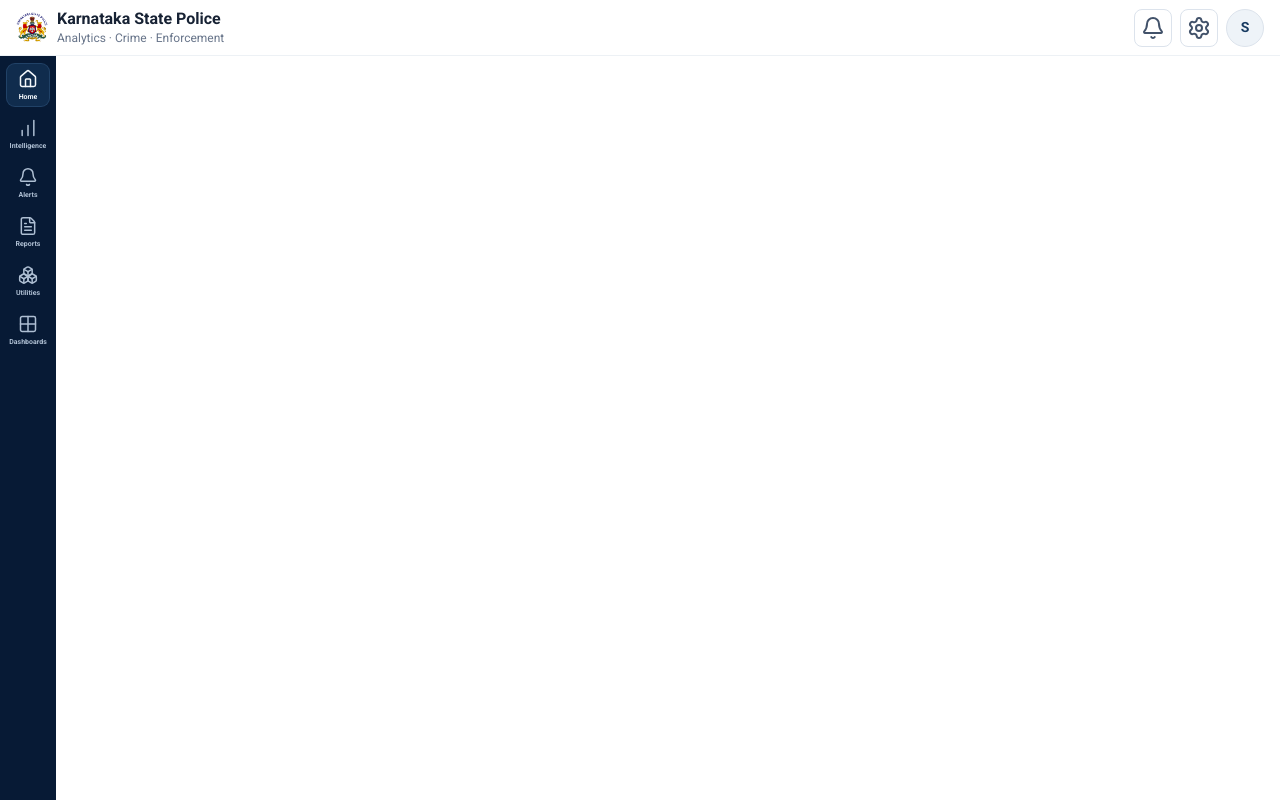
Test: keeps persona and settings menus mutually exclusive
The image size is (1280, 800).
Click the button named "Open account menu" at (1245, 28), box 1226,8 -> 1264,46
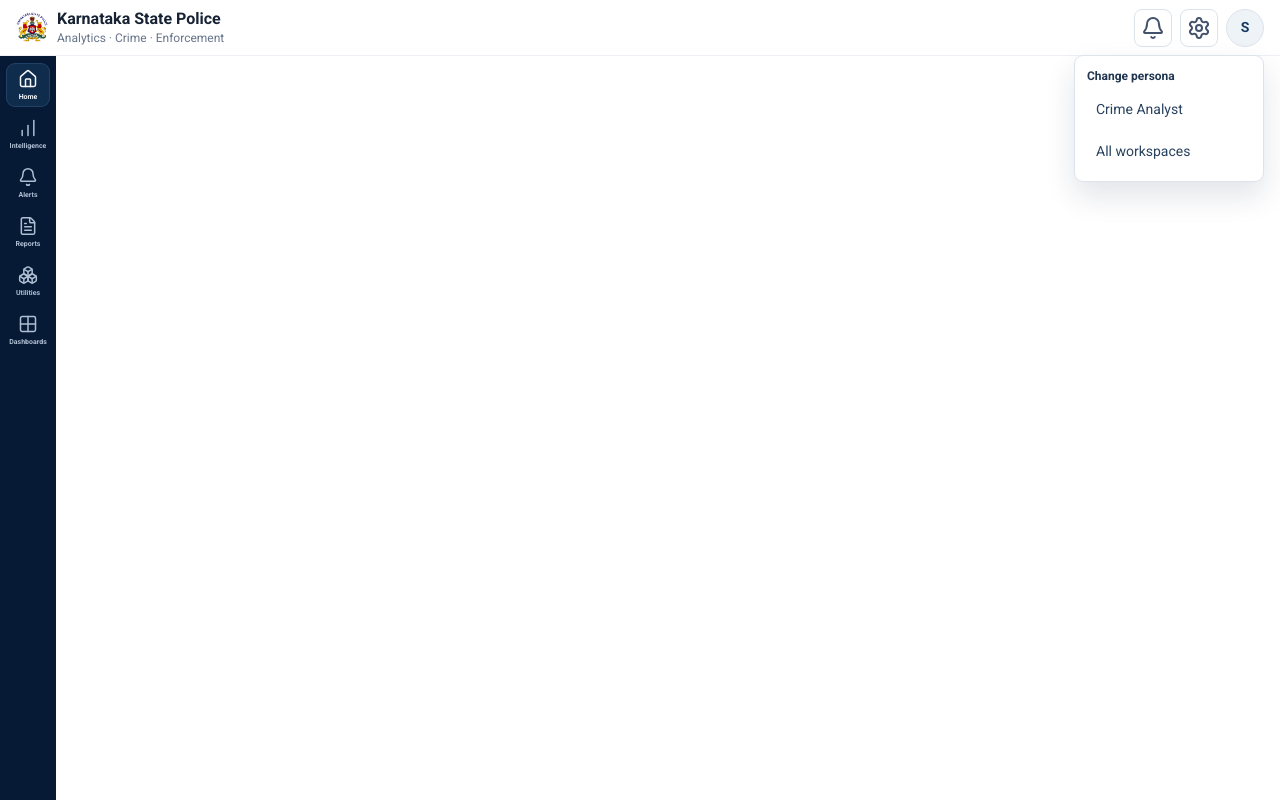
Click the button named "Open settings" at (1199, 28), box 1180,8 -> 1218,46
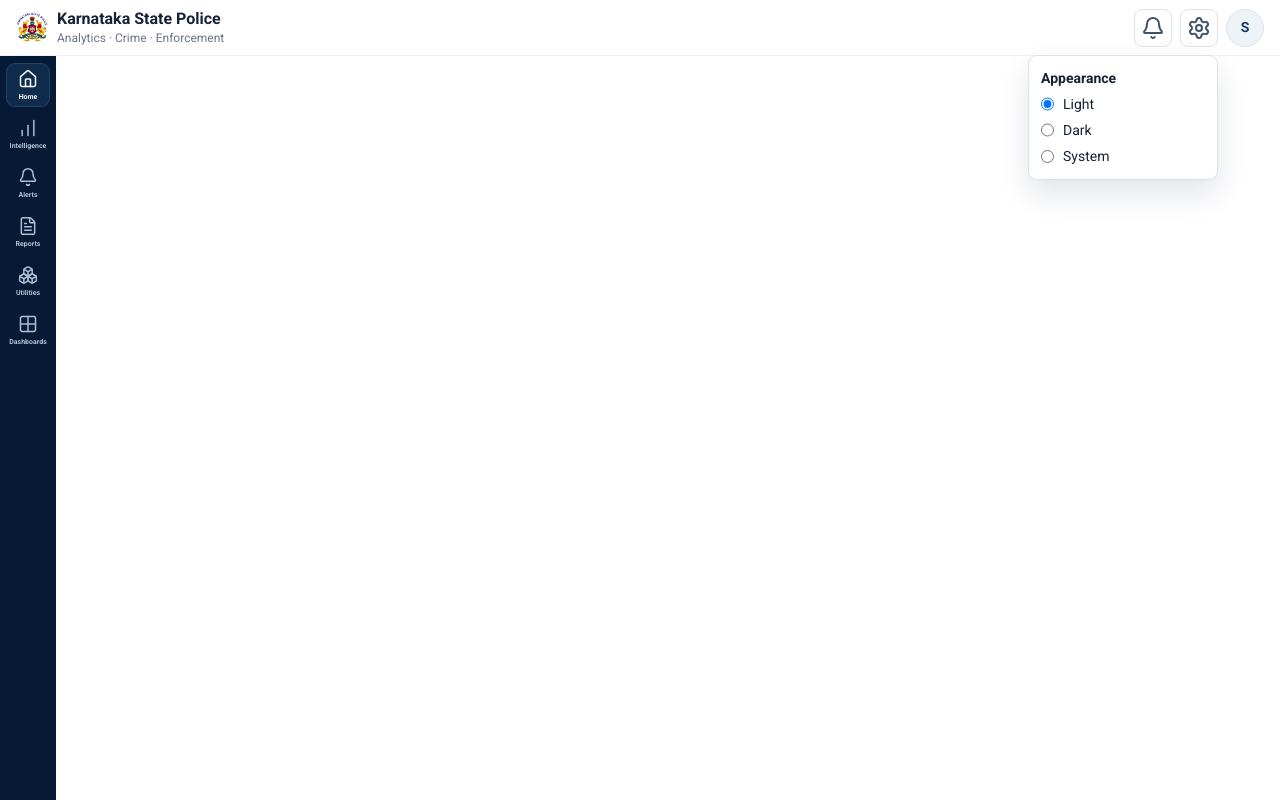
expect the text "Change persona" is gone: met
expect the element "Appearance" is shown: met, box 1028,54 -> 1218,180
